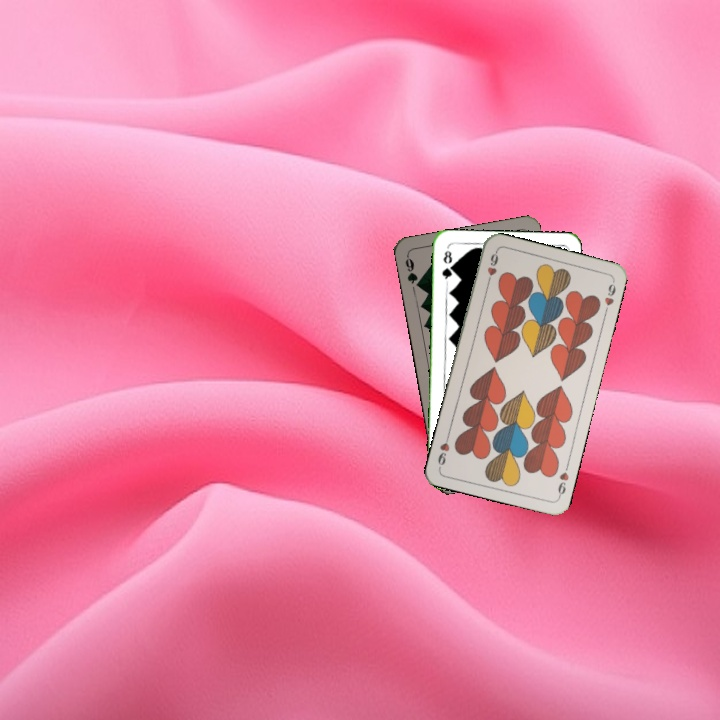G8: (438, 247, 455, 285)
G9: (401, 252, 424, 291)
H9: (483, 248, 501, 288), (554, 460, 571, 500)
